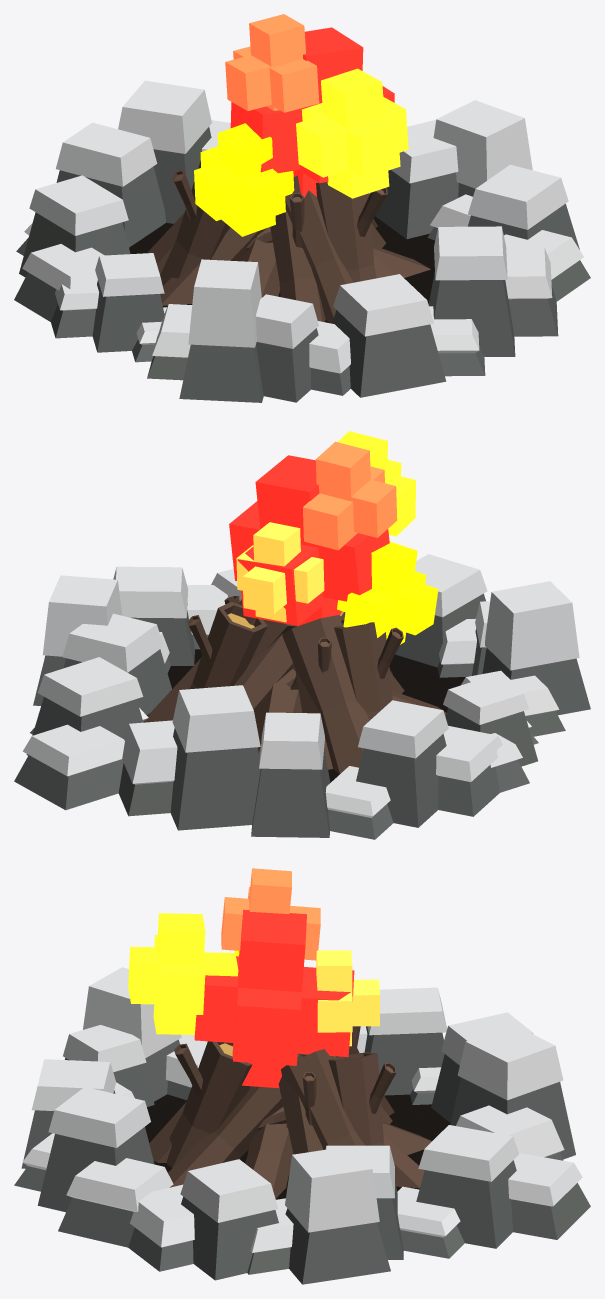
Rendered from campfire.glb.
The picture shows the model from 3 angles, top to bottom: view 1: azimuth 30°, elevation 25°; view 2: azimuth 150°, elevation 25°; view 3: azimuth 270°, elevation 25°; orthographic projection. The views are drawn at different scales.
Visible parts, largest first — view 1: Mesh_Campfire_Empty, Mesh_Campfire_Fire; view 2: Mesh_Campfire_Empty, Mesh_Campfire_Fire; view 3: Mesh_Campfire_Empty, Mesh_Campfire_Fire.
Boxes of the visible parts, x1,y1,x2,y2 form: Mesh_Campfire_Empty: (14,80,590,402); Mesh_Campfire_Fire: (194,14,408,236); Mesh_Campfire_Empty: (14,554,590,839); Mesh_Campfire_Fire: (229,431,438,644); Mesh_Campfire_Empty: (14,967,590,1284); Mesh_Campfire_Fire: (128,868,380,1088).
Size of the model in its own units: 0.875 by 0.5499 by 0.9054.
1 material, 1 textured.
